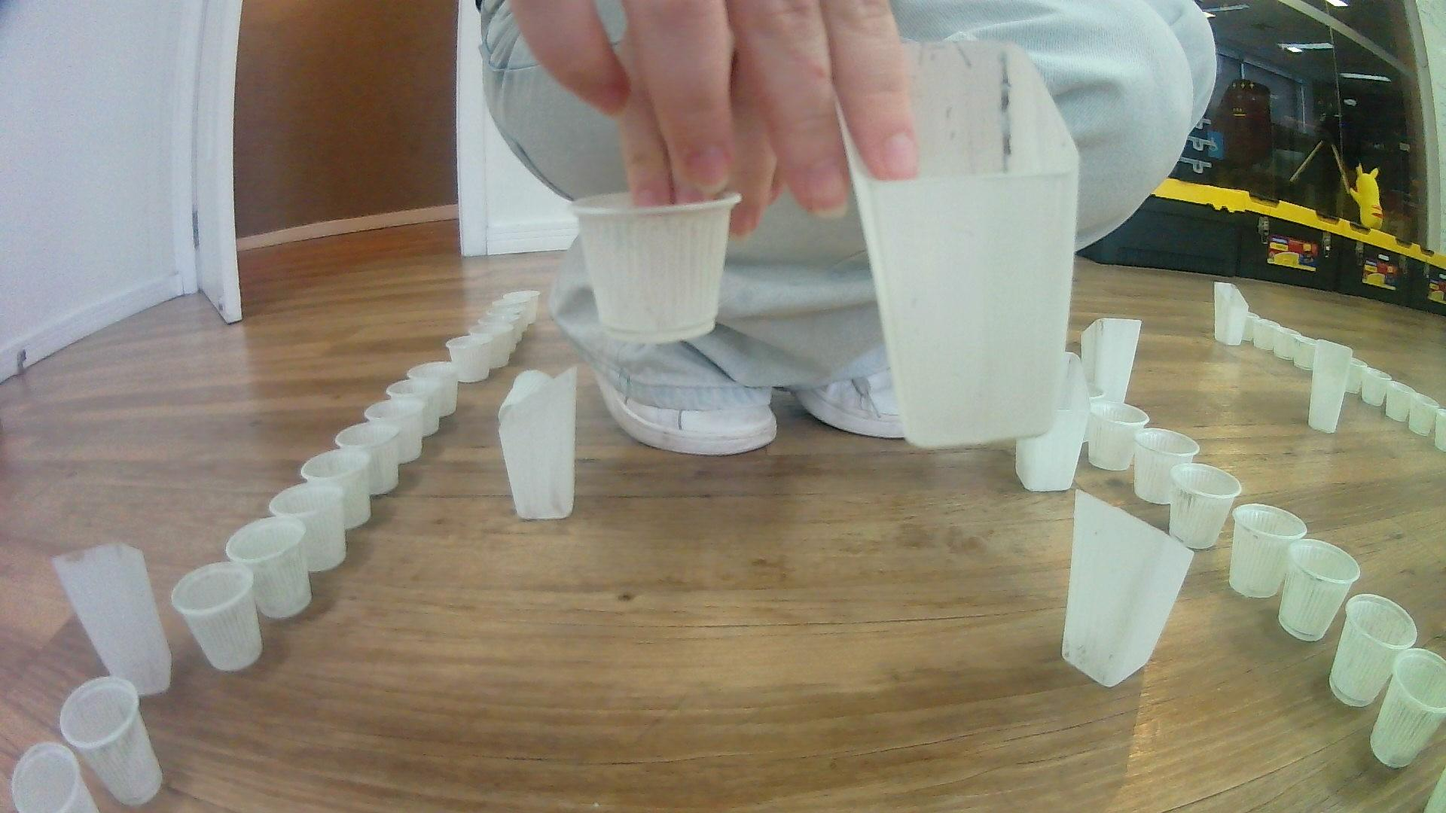erva_daninha: (836, 36, 1079, 451), (1060, 488, 1195, 688), (51, 544, 173, 696), (497, 366, 578, 522), (1014, 350, 1093, 493), (1080, 317, 1143, 406), (1307, 339, 1354, 434), (1213, 281, 1250, 346)
planta: (566, 190, 741, 345), (59, 677, 163, 811), (1329, 592, 1420, 708), (171, 562, 263, 672), (1368, 647, 1446, 770), (224, 517, 314, 620), (1277, 538, 1361, 643), (1228, 503, 1309, 599), (269, 482, 347, 573), (10, 741, 101, 813), (1167, 463, 1241, 551), (299, 449, 372, 531), (1133, 428, 1200, 507), (334, 422, 400, 495), (1086, 403, 1150, 471), (364, 399, 424, 464), (383, 379, 441, 437), (407, 361, 459, 418), (446, 333, 492, 383), (468, 320, 514, 370), (477, 313, 523, 355), (489, 303, 532, 343), (1408, 394, 1441, 437), (501, 290, 540, 325), (1385, 382, 1416, 422), (1246, 313, 1278, 351), (1361, 369, 1392, 407), (1273, 325, 1303, 361), (1292, 333, 1315, 371), (1344, 358, 1368, 394), (1434, 407, 1446, 452)
